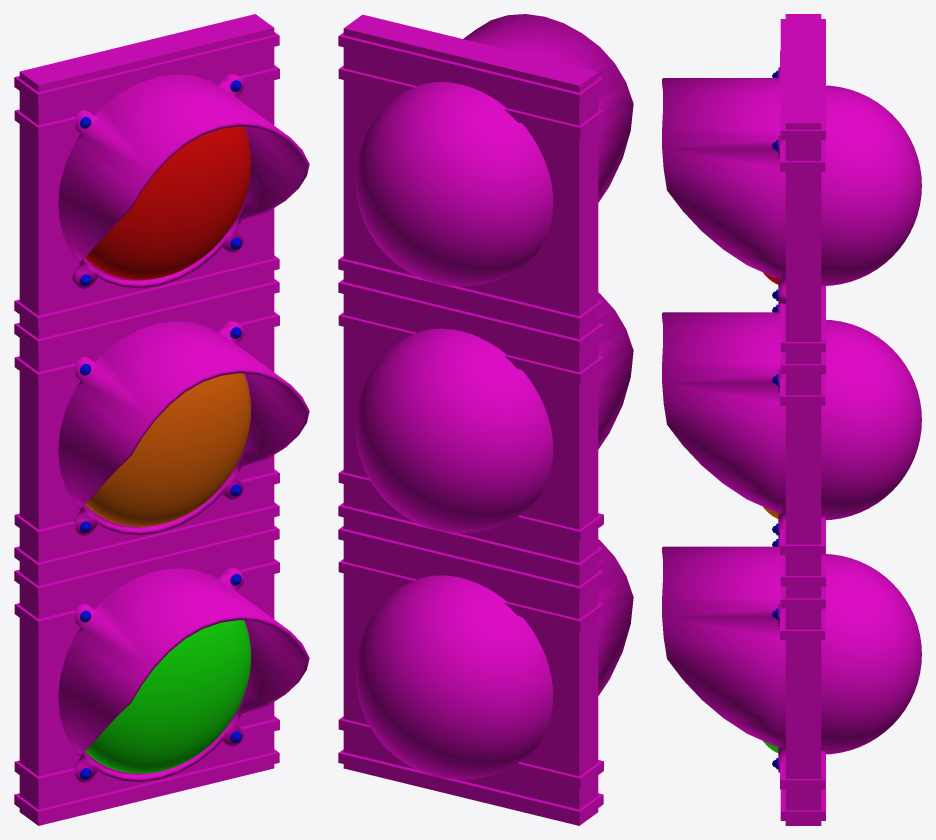
Rendered from semafor.fbx.
3 renders of one model, left to right at view 1: azimuth 30°, elevation 25°; view 2: azimuth 150°, elevation 25°; view 3: azimuth 270°, elevation 25°, orthographic. The views are drawn at different scales.
Visible parts, largest first — view 1: semafor.001; view 2: semafor.001; view 3: semafor.001.
Boxes of the visible parts, box(x1,y1,x2,y2) form: semafor.001: box(14, 14, 309, 825); semafor.001: box(338, 14, 633, 825); semafor.001: box(662, 14, 921, 825).
Bounding box in the file's own units: 36.88 × 108 × 36.2.
